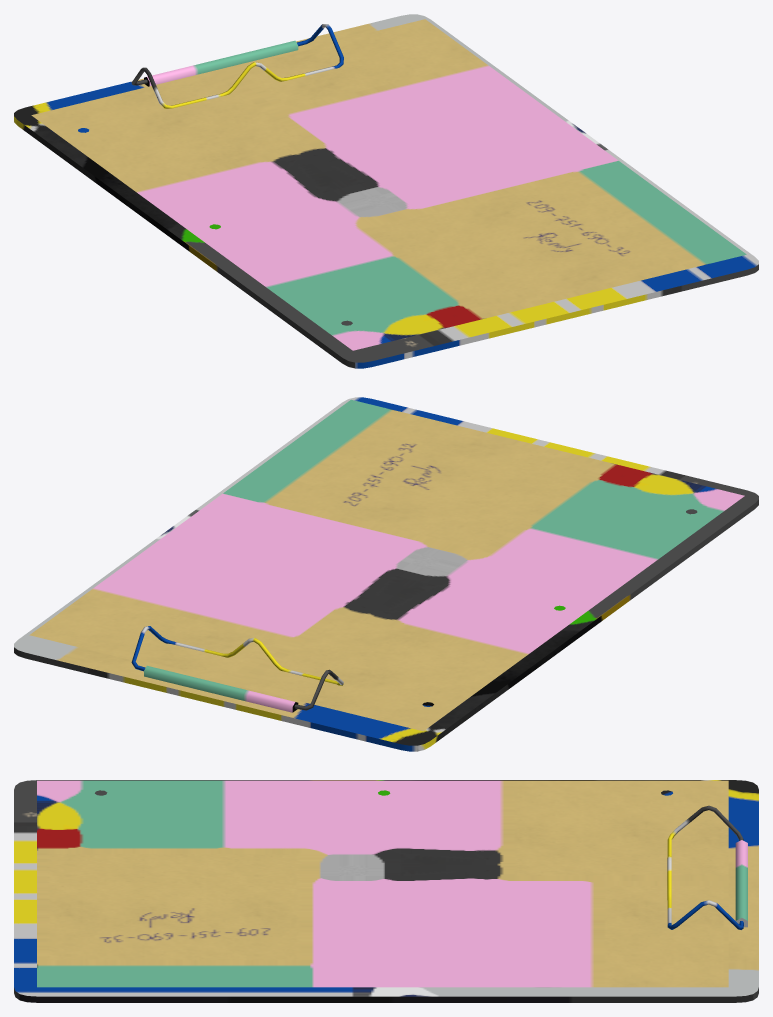
The model's file is PaperTableA.FBX.
3 views of the same model, one above another, from view 1: azimuth 30°, elevation 25°; view 2: azimuth 150°, elevation 25°; view 3: azimuth 270°, elevation 25° (orthographic). The views are drawn at different scales.
Visible parts, largest first — view 1: PaperTableA_LOD0; view 2: PaperTableA_LOD0; view 3: PaperTableA_LOD0.
Boxes of the visible parts, left/top/right/bottom form: PaperTableA_LOD0: left=14, top=14, right=758, bottom=368; PaperTableA_LOD0: left=14, top=397, right=758, bottom=751; PaperTableA_LOD0: left=14, top=780, right=758, bottom=1002.
Size of what is drawn, in the model's own units: 22 by 1.97 by 32.
